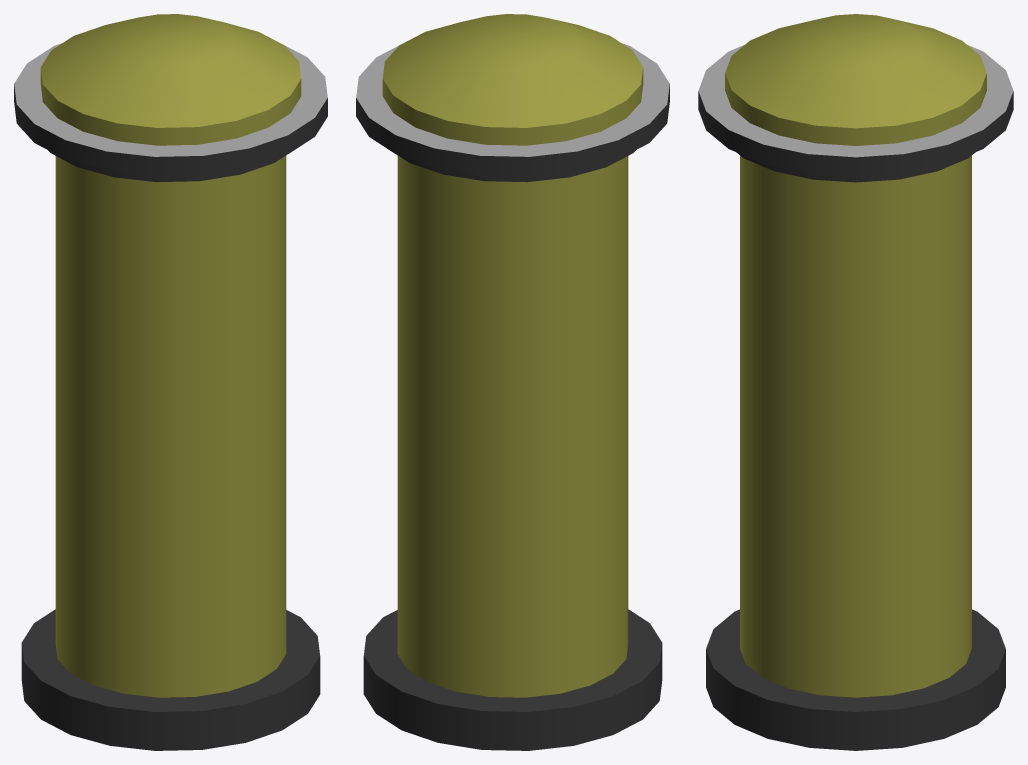
Rendered from Traffic_Pole.fbx.
3 views of the same model, side by side, from view 1: azimuth 30°, elevation 25°; view 2: azimuth 150°, elevation 25°; view 3: azimuth 270°, elevation 25° (orthographic).
Parts seen in each view (by area): view 1: Traffic_Pole; view 2: Traffic_Pole; view 3: Traffic_Pole.
Boxes of the visible parts, bbox=[...] form: Traffic_Pole: bbox=[14, 14, 327, 750]; Traffic_Pole: bbox=[356, 14, 669, 750]; Traffic_Pole: bbox=[698, 14, 1013, 750].
Bounding box in the file's own units: 2.72 × 6.15 × 2.72.
